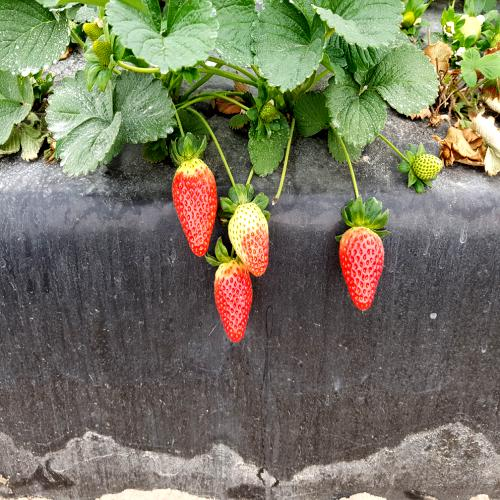ripe: (333, 214, 391, 318), (205, 249, 260, 349), (171, 148, 215, 264)
